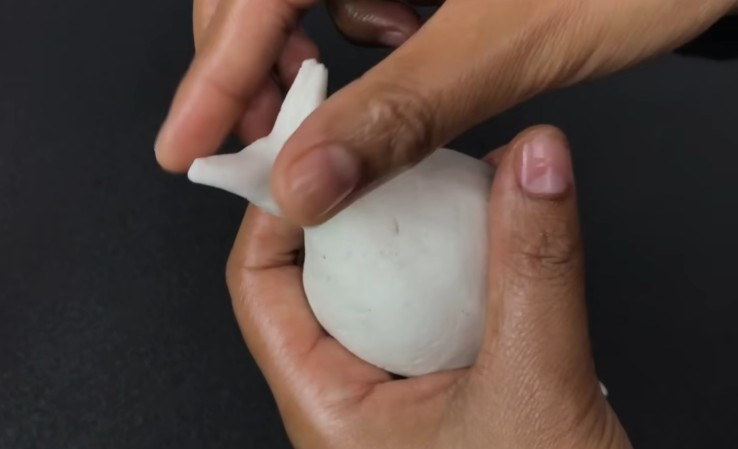yomari: (187, 56, 507, 363)
